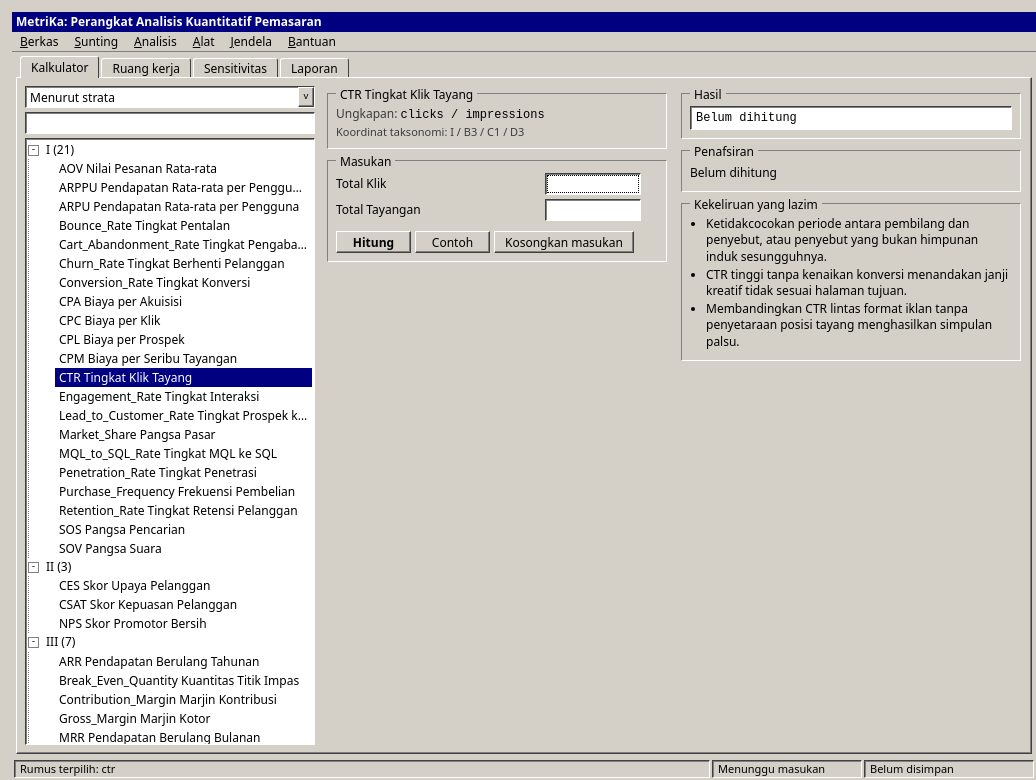
Test: the workbench screen › says plainly when nothing has been entered and when nothing has been derived
What coordinates should you click on to do the following:
click the tab "Ruang kerja"
I would click on:
 (146, 68)
Its box is [102,58,191,78].
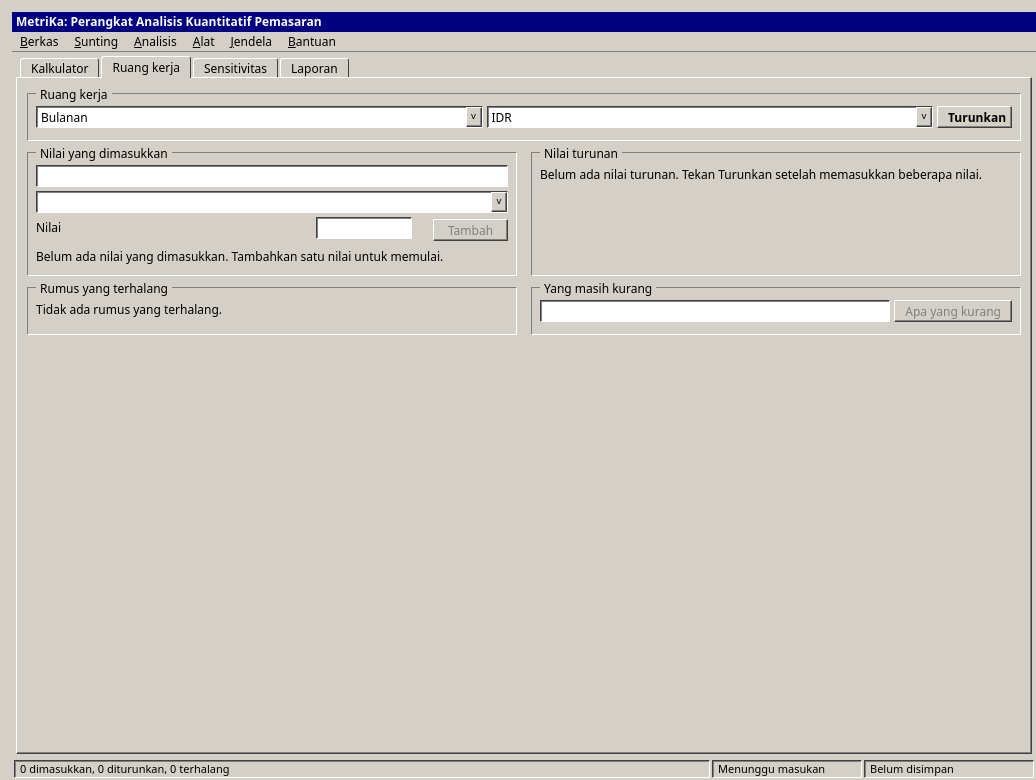
Result: the text "Belum ada nilai yang dimasukkan" is shown at [36,248,443,265]
Result: the text "Belum ada nilai turunan" is shown at [540,166,982,183]
